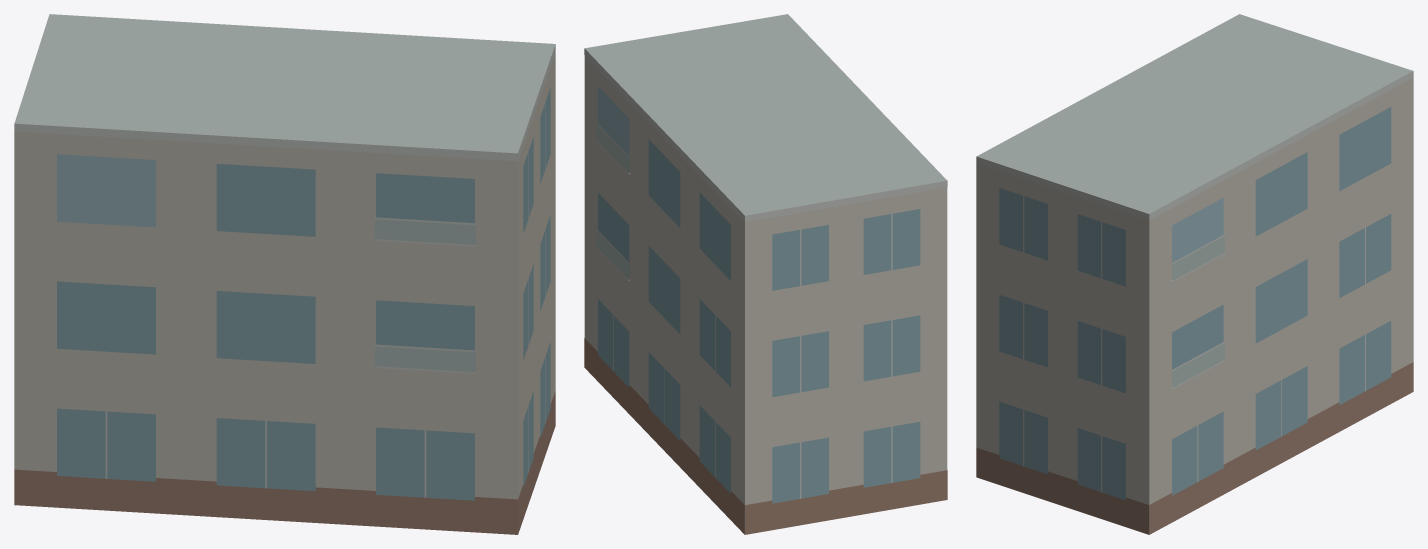
The model's file is survey-upis-32817420.glb.
3 renders of one model, left to right at view 1: azimuth 30°, elevation 25°; view 2: azimuth 150°, elevation 25°; view 3: azimuth 270°, elevation 25°, orthographic. The views are drawn at different scales.
Parts seen in each view (by area): view 1: survey-upis-32817420.tmp; view 2: survey-upis-32817420.tmp; view 3: survey-upis-32817420.tmp.
Boxes of the visible parts, <box> form: survey-upis-32817420.tmp: <box>14,14,555,534</box>; survey-upis-32817420.tmp: <box>584,14,947,534</box>; survey-upis-32817420.tmp: <box>976,14,1413,534</box>.
Size of the model in its own units: 15.66 by 11.7 by 14.46.
